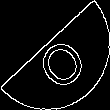O_NW: (23, 21, 87, 89)
